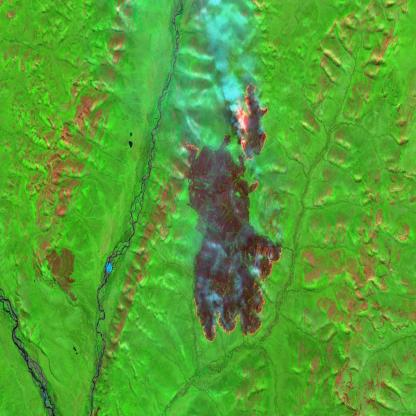fire: (181, 78, 285, 347)
